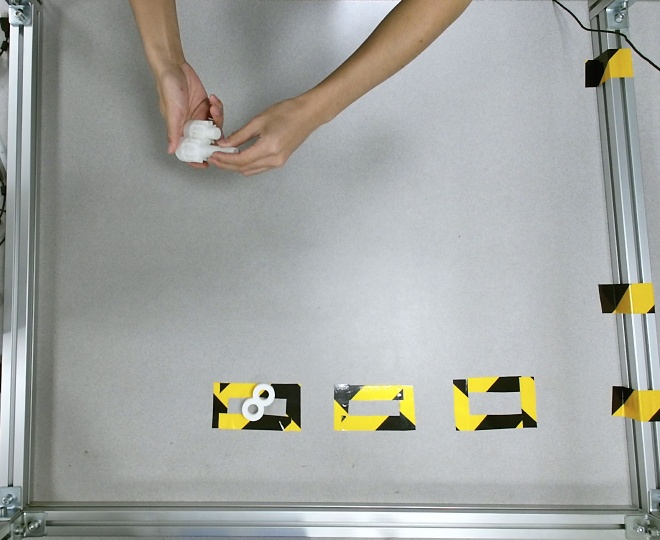stage_3: (176, 119, 238, 163)
